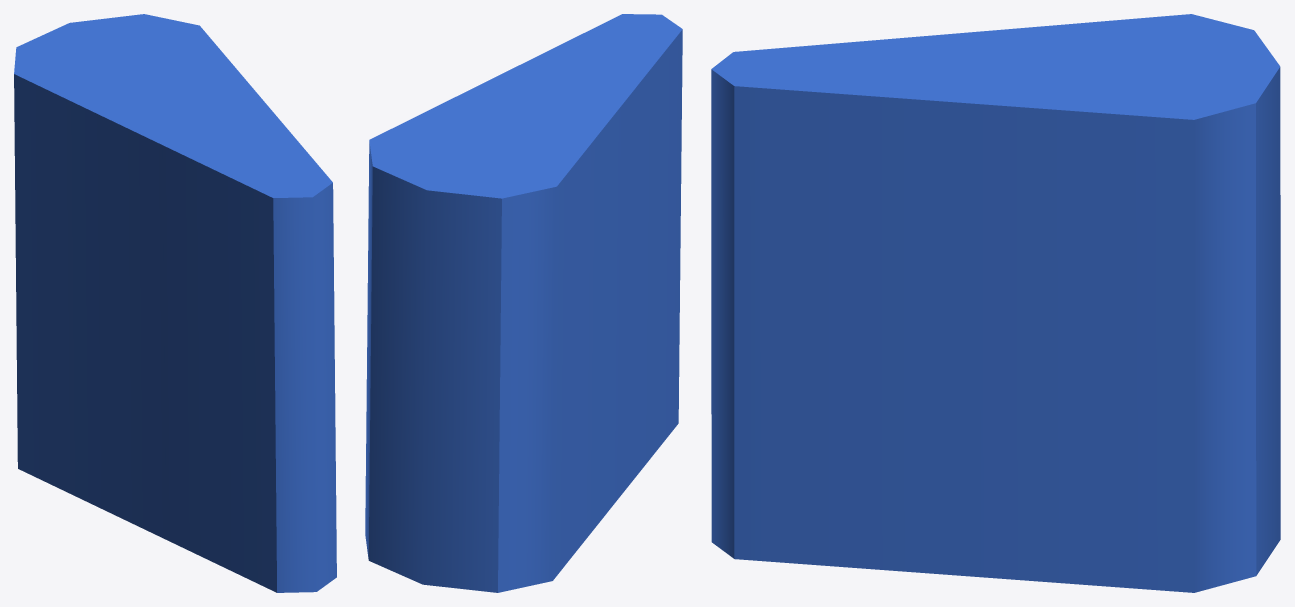
Rendered from flipper.fbx.
3 views of the same model, side by side, from view 1: azimuth 30°, elevation 25°; view 2: azimuth 150°, elevation 25°; view 3: azimuth 270°, elevation 25° (orthographic). The views are drawn at different scales.
Parts seen in each view (by area): view 1: flipper01_GEO; view 2: flipper01_GEO; view 3: flipper01_GEO.
Boxes of the visible parts, x1=… form: flipper01_GEO: x1=14, y1=14, x2=336, y2=592; flipper01_GEO: x1=365, y1=14, x2=682, y2=592; flipper01_GEO: x1=711, y1=14, x2=1280, y2=592.
Bounding box in the file's own units: 50.43 × 101 × 110.
